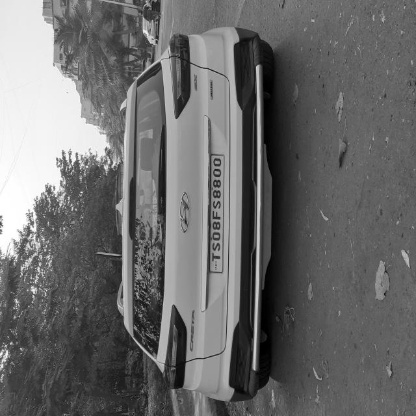car: (9, 255, 191, 416)
